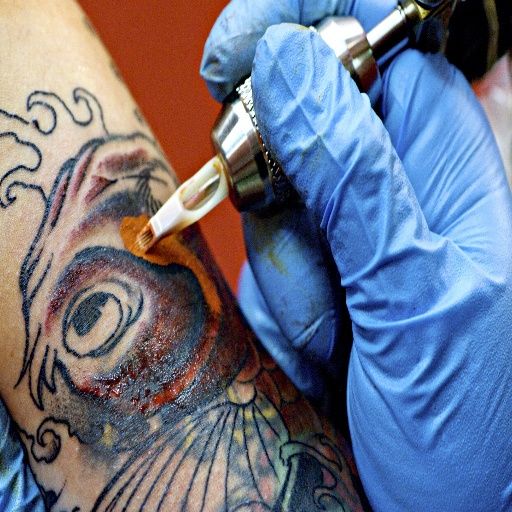hand: (198, 0, 511, 511)
